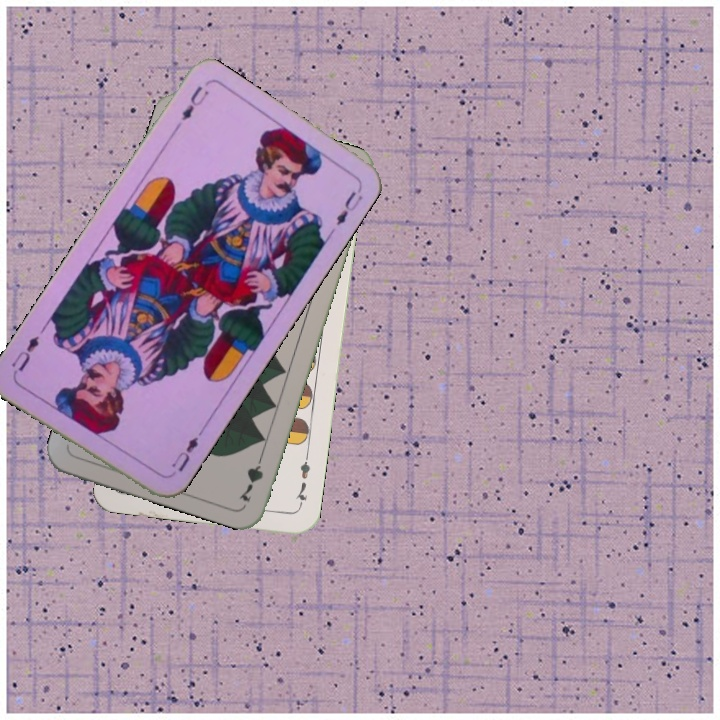E7: (292, 451, 313, 510)
EU: (167, 432, 202, 475), (177, 81, 212, 123)
G7: (235, 447, 267, 504)
